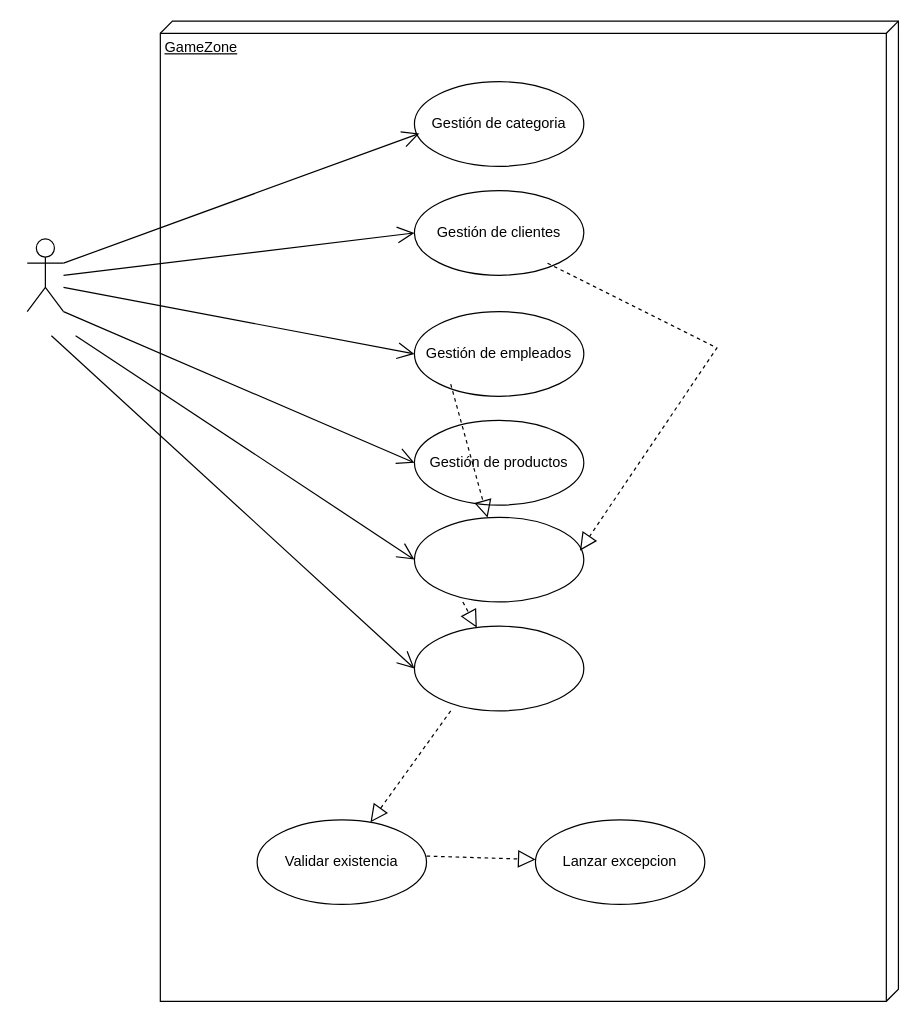
Image size: 920x1022. Some labels were removed from this diagram. Each missing label, with the centre of its shape:
"Gestión de detalles de venta" goes at (x=498, y=668).
"Gestión de ventas" goes at (x=498, y=559).
"Usuario" goes at (x=45, y=275).
